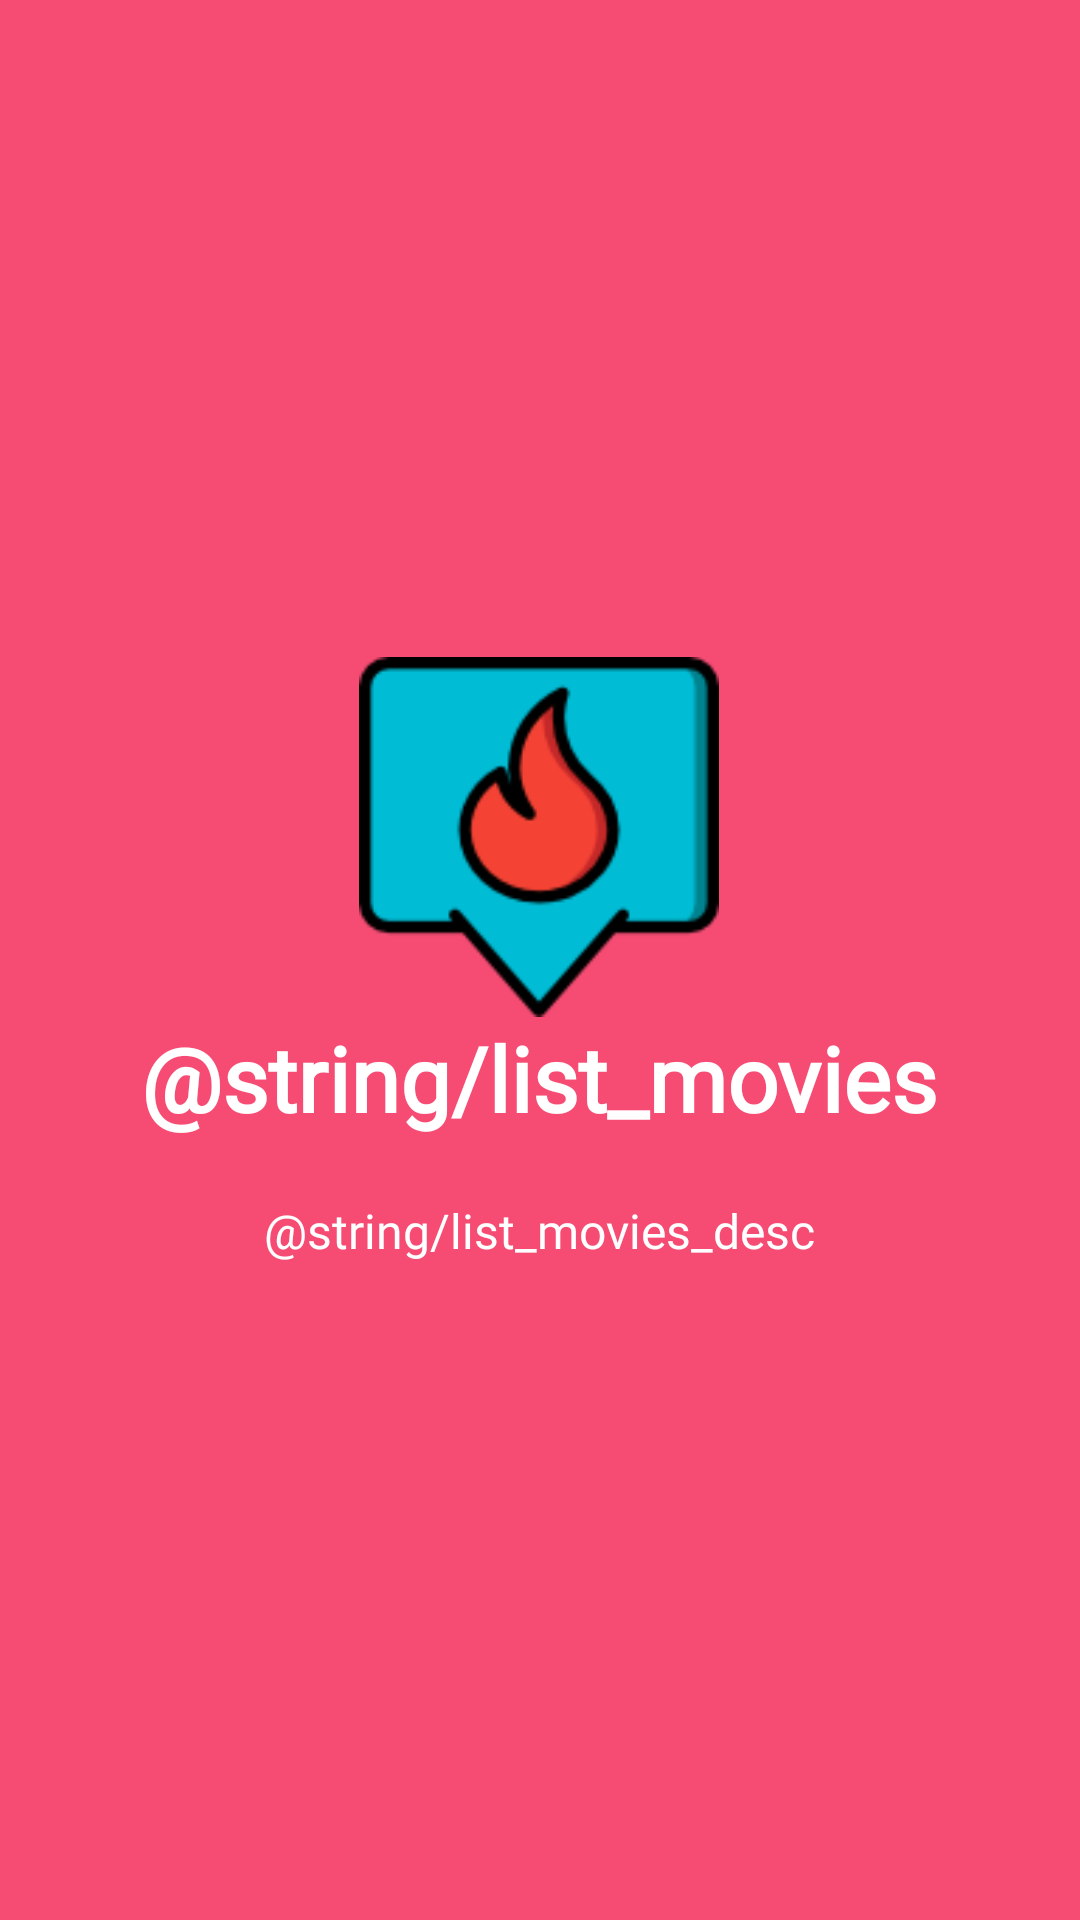

Where icons sit on this 1080px×1920px app screen, as (x1, y1, x2, y2):
intro trend: (359, 657, 719, 1017)
